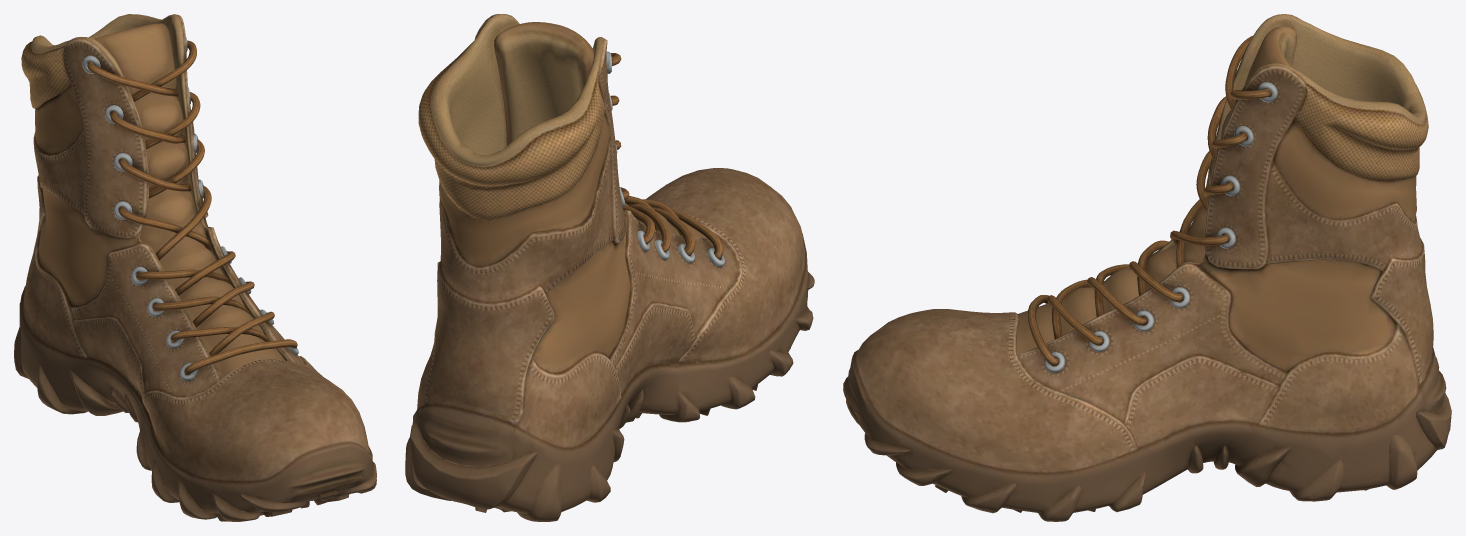
Rendered from boots-compressed.glb.
The picture shows the model from 3 angles, left to right: view 1: azimuth 30°, elevation 25°; view 2: azimuth 150°, elevation 25°; view 3: azimuth 270°, elevation 25°; orthographic projection. The views are drawn at different scales.
Visible parts, largest first — view 1: Object_6; view 2: Object_6; view 3: Object_6.
Boxes of the visible parts, x1=… form: Object_6: x1=14, y1=14, x2=376, y2=521; Object_6: x1=405, y1=14, x2=814, y2=521; Object_6: x1=843, y1=14, x2=1451, y2=521.
Bounding box in the file's own units: 10.74 × 21.08 × 27.12.
Materials: 1 (1 with a texture image).
